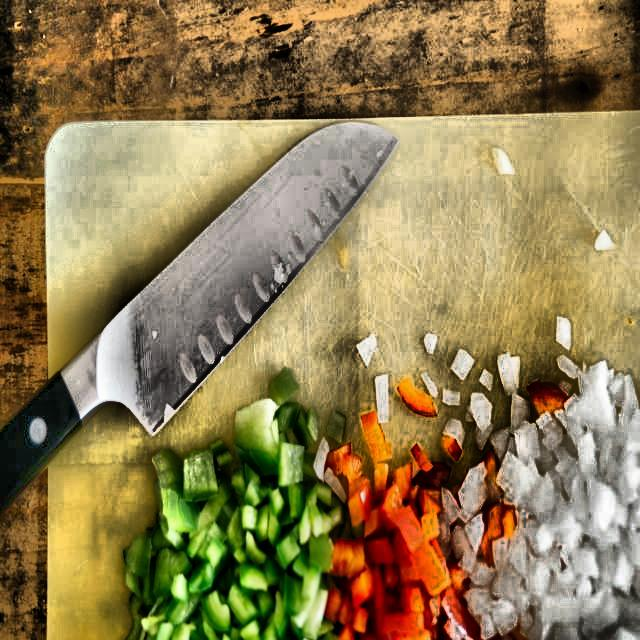knife: (0, 118, 408, 510)
